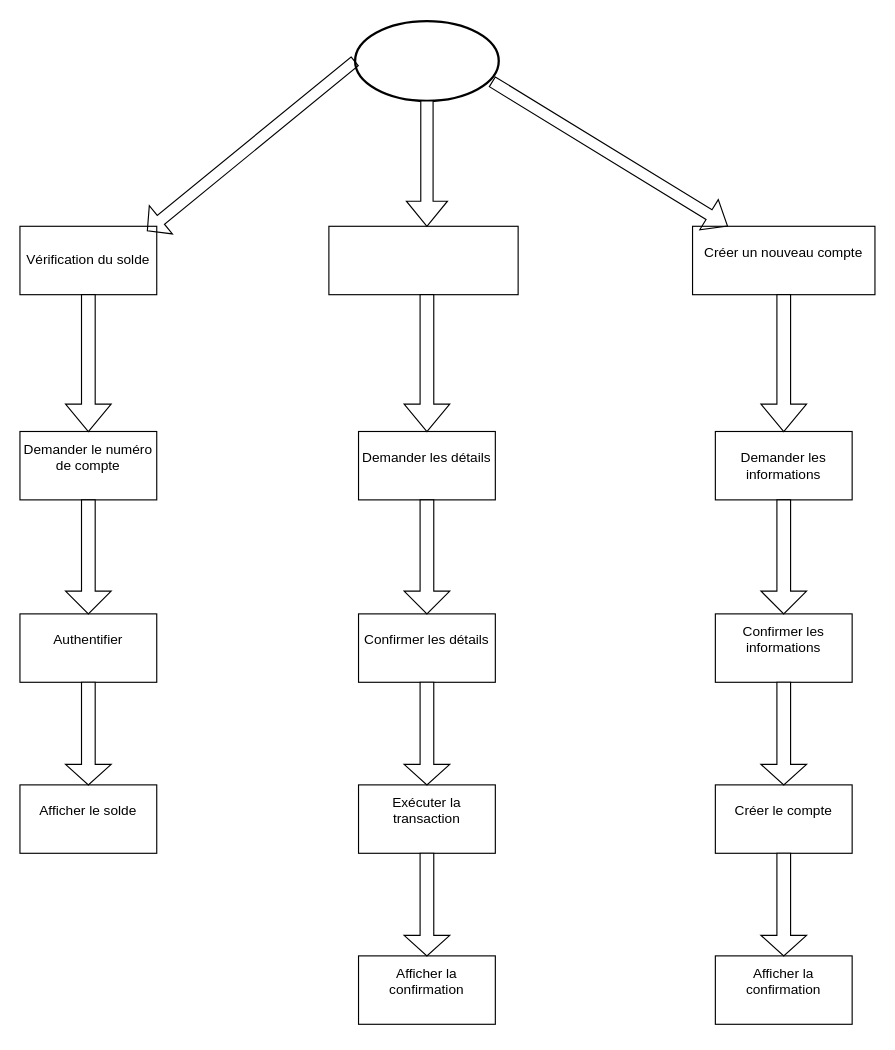
Some shapes in this 895 by 1050 pixel diagram are drawn without their labels. Each missing label, with the box of its shape:
Accueil: (353, 19, 499, 101)
Effectuer une transaction: (328, 225, 518, 295)
